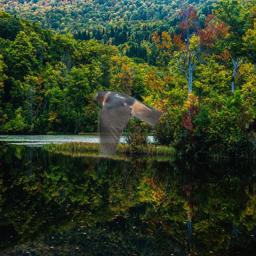Swallow: (93, 88, 166, 157)
